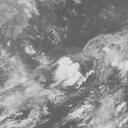cyclone: (54, 55, 83, 89)
